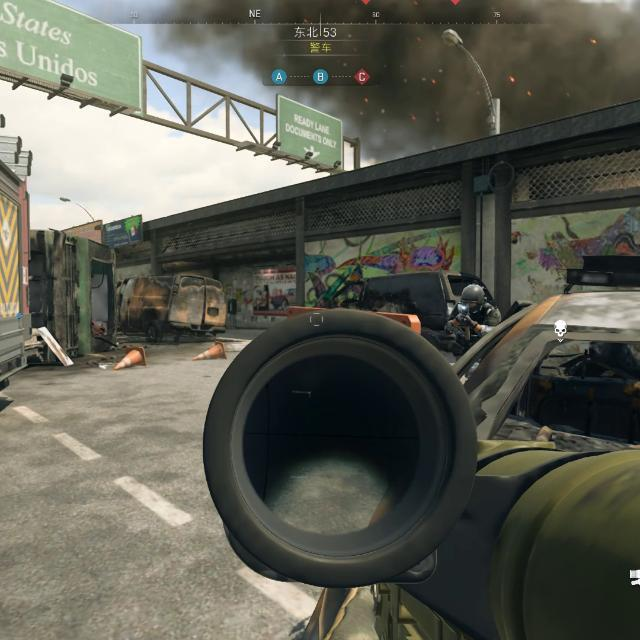MW2_body: (445, 283, 501, 355)
